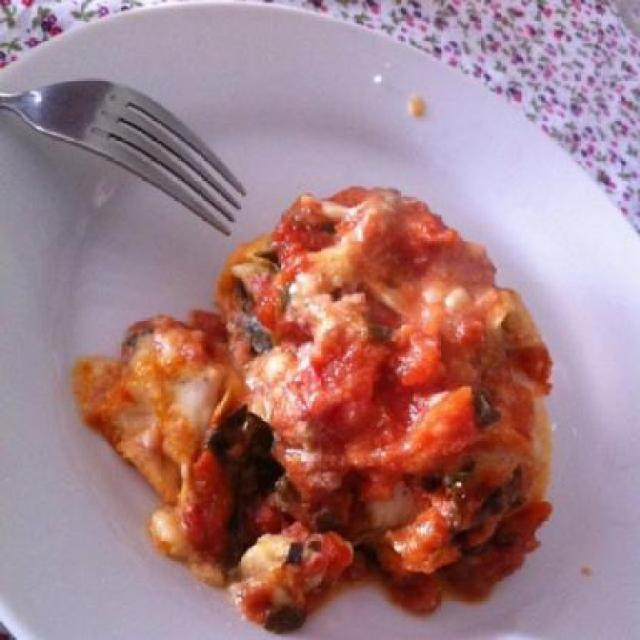Lasagna: (92, 188, 538, 598)
